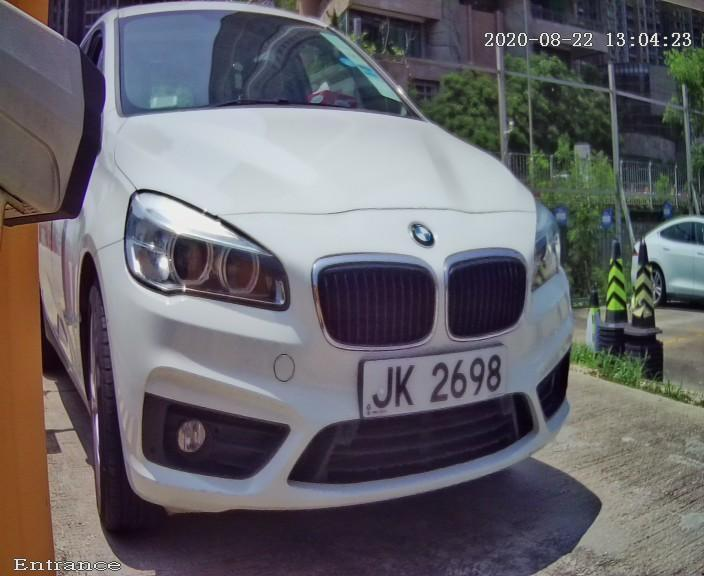Car: (26, 1, 610, 569)
License Plate: (298, 317, 564, 434)
